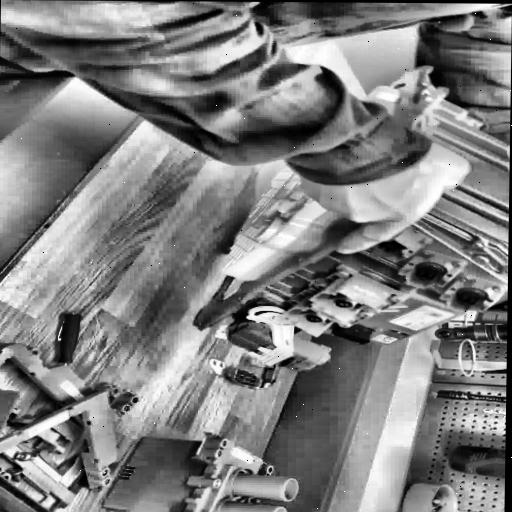bms_unit: (171, 53, 511, 367)
connector: (99, 429, 309, 512)
